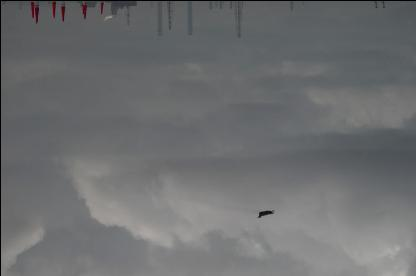Tu95: (256, 208, 275, 216)
